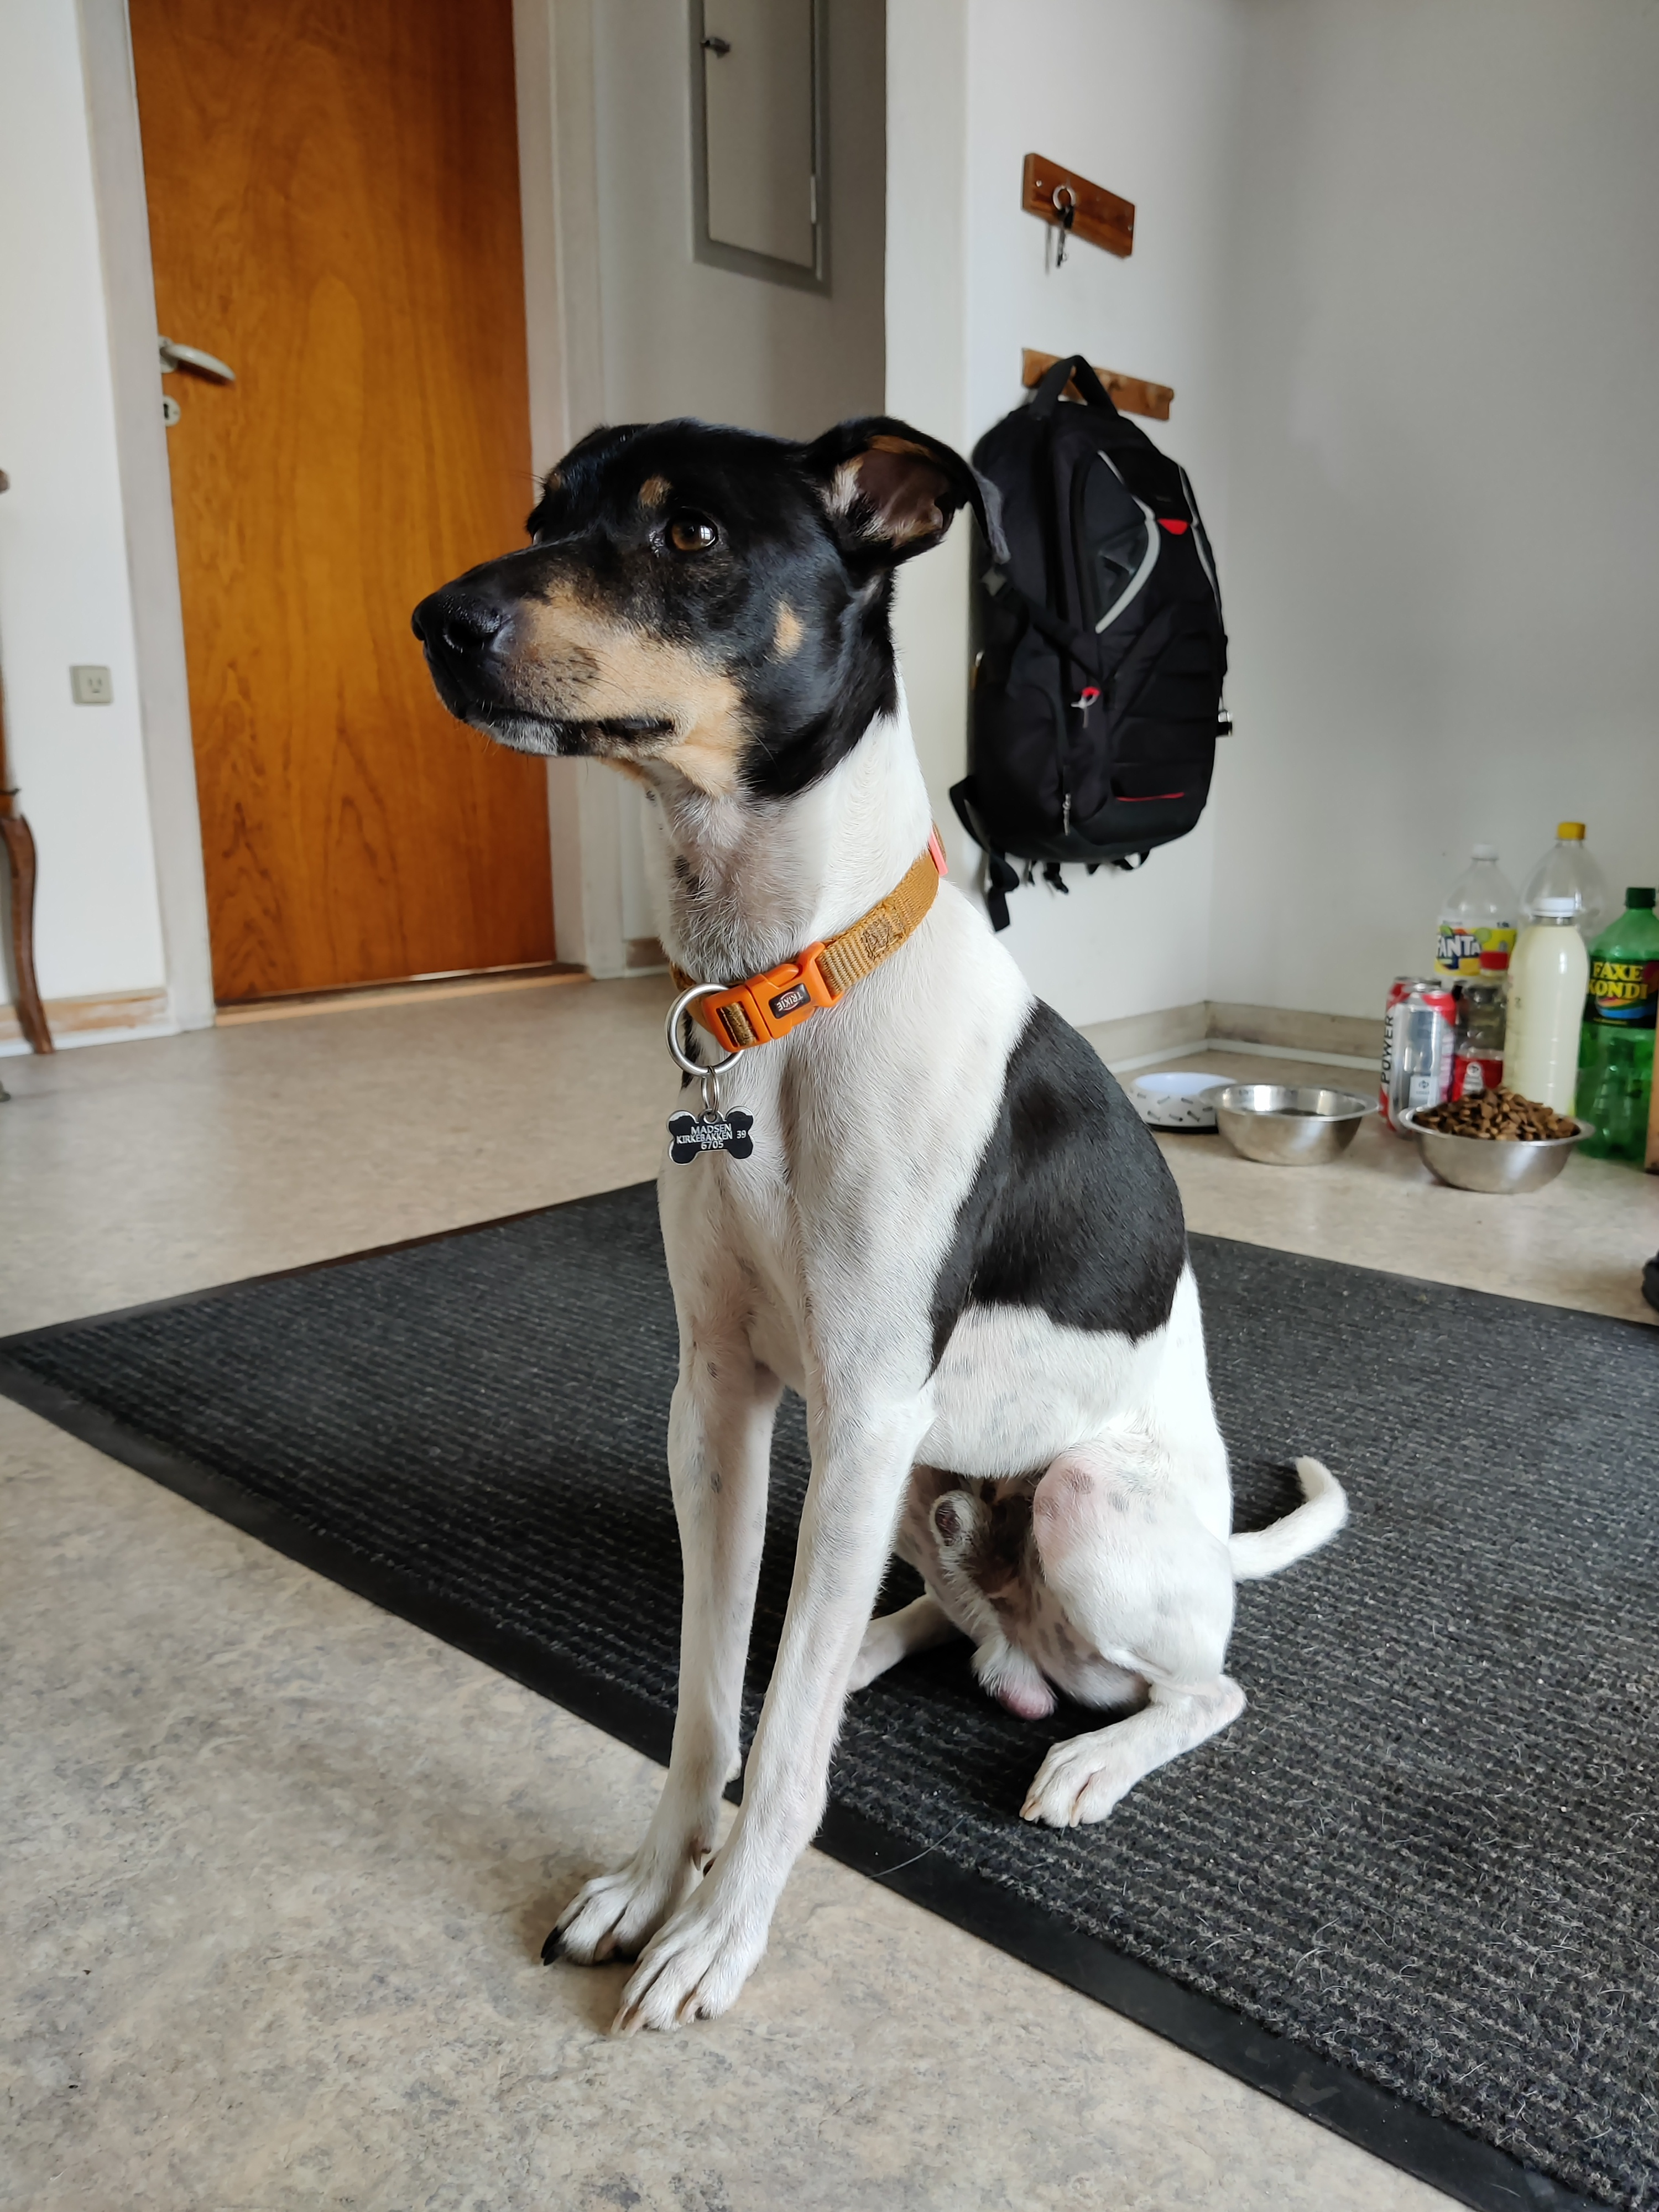Dog: (385, 385, 1401, 2060)
